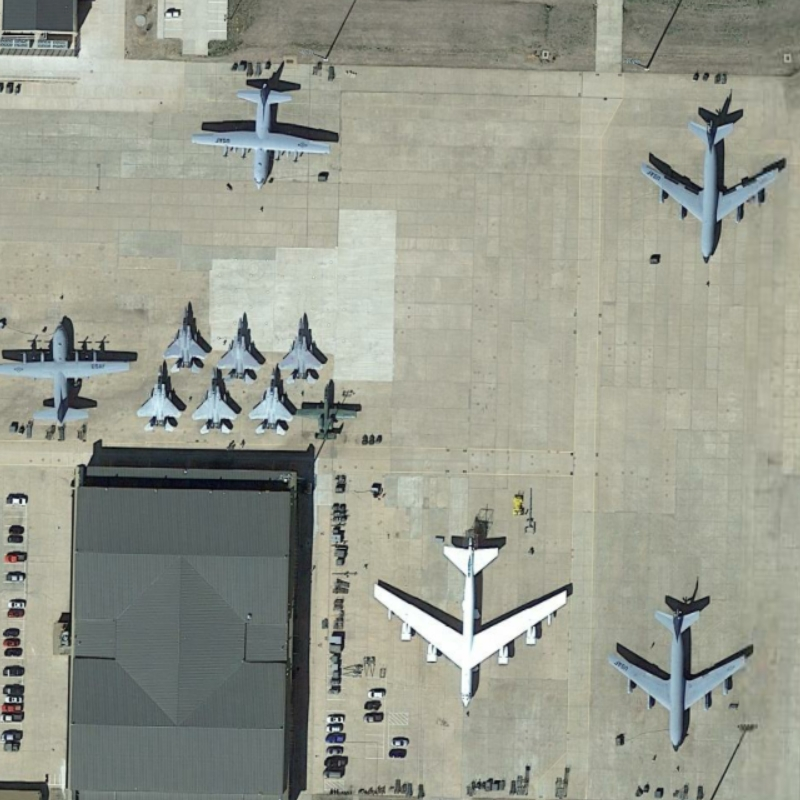A13: (243, 356, 302, 441), (188, 360, 245, 442), (273, 309, 332, 386), (132, 361, 189, 439), (218, 305, 268, 386), (157, 297, 206, 372)
A14: (599, 594, 760, 756), (635, 105, 783, 267)
A2: (187, 71, 339, 197), (3, 309, 136, 441)
A8: (368, 527, 582, 713)
